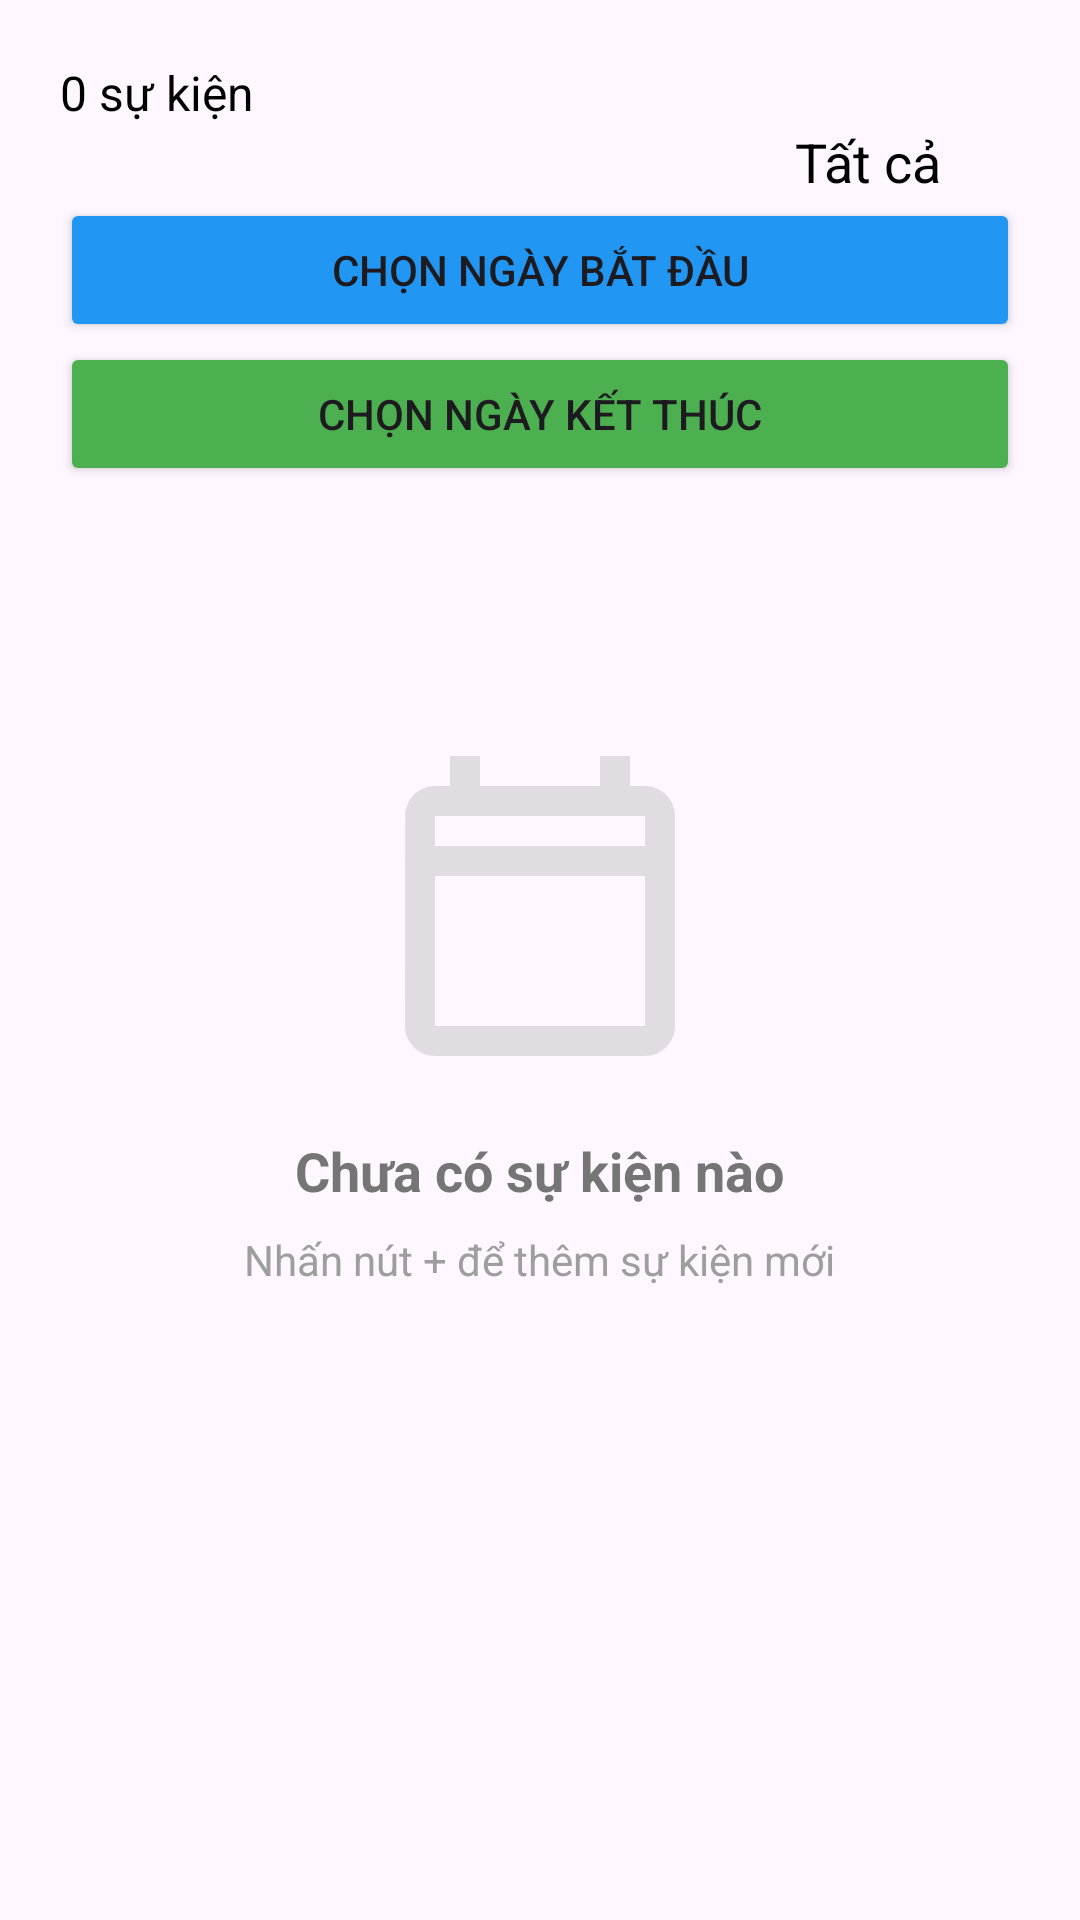

Named icons in this screenshot (1080 × 1920) and their centers, point (x, y):
empty calendar: point (540, 906)
